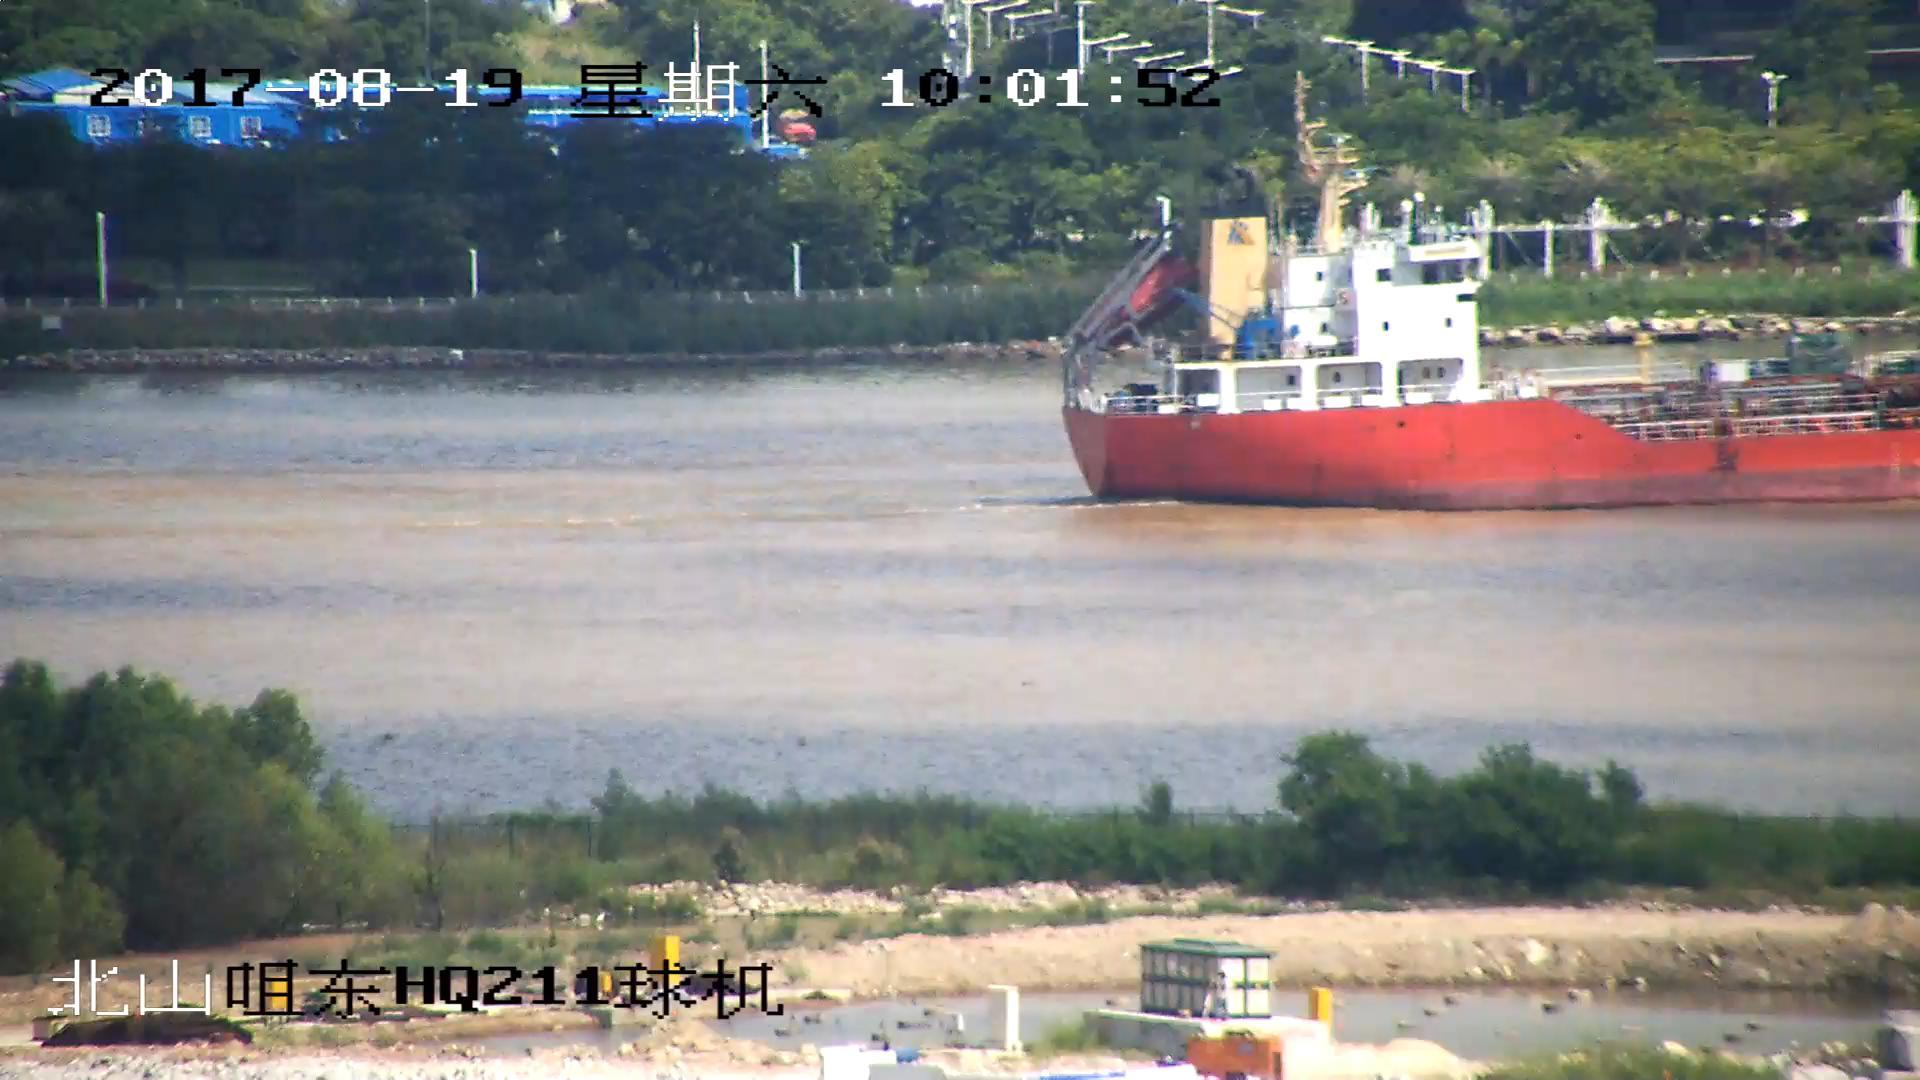Ship: (1048, 120, 1920, 512)
